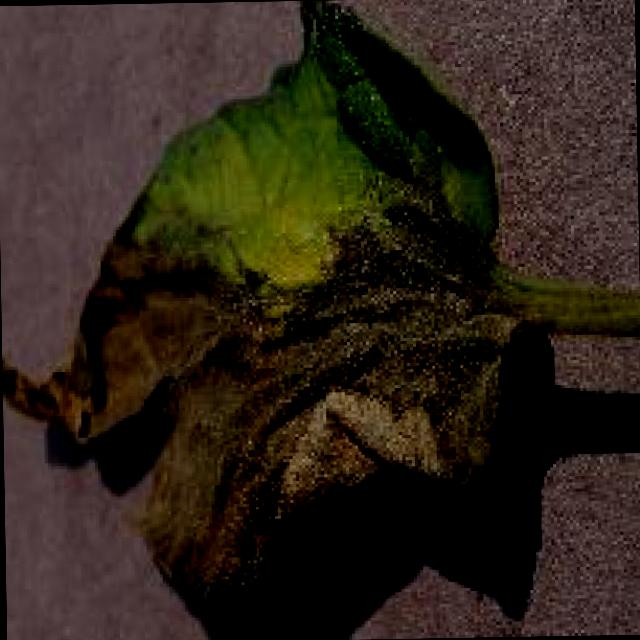leaf blight: (1, 0, 640, 594)
